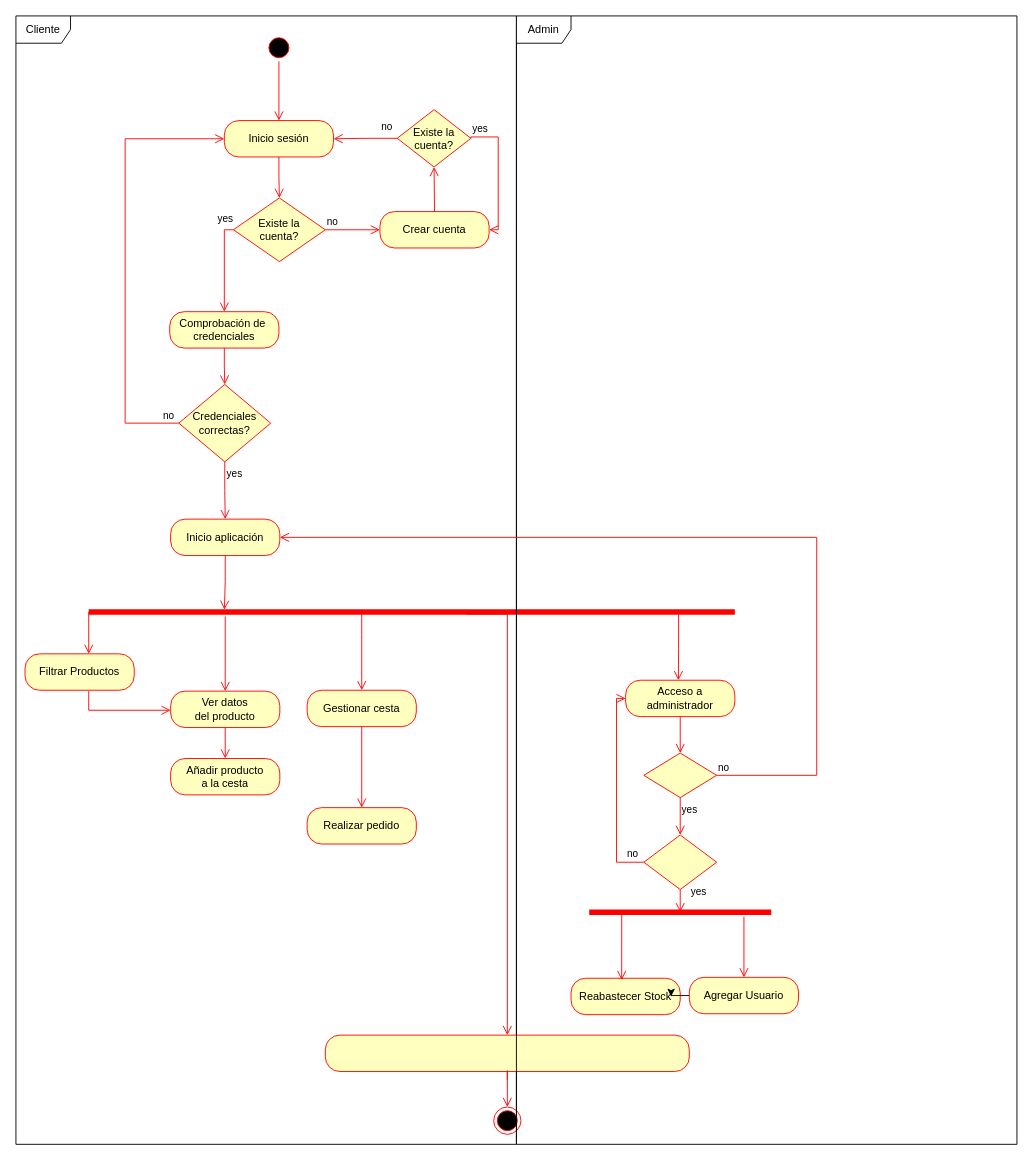
Some shapes in this 1033 by 1160 pixel diagram are drawn without their labels. The shapes that lost their labels are listed below. From the top down, each one's centre as x and y in pixels, then its label:
pixel 680 775: Es admin?
pixel 680 862: contraseña correcta?
pixel 506 1053: Salir de la aplicación
